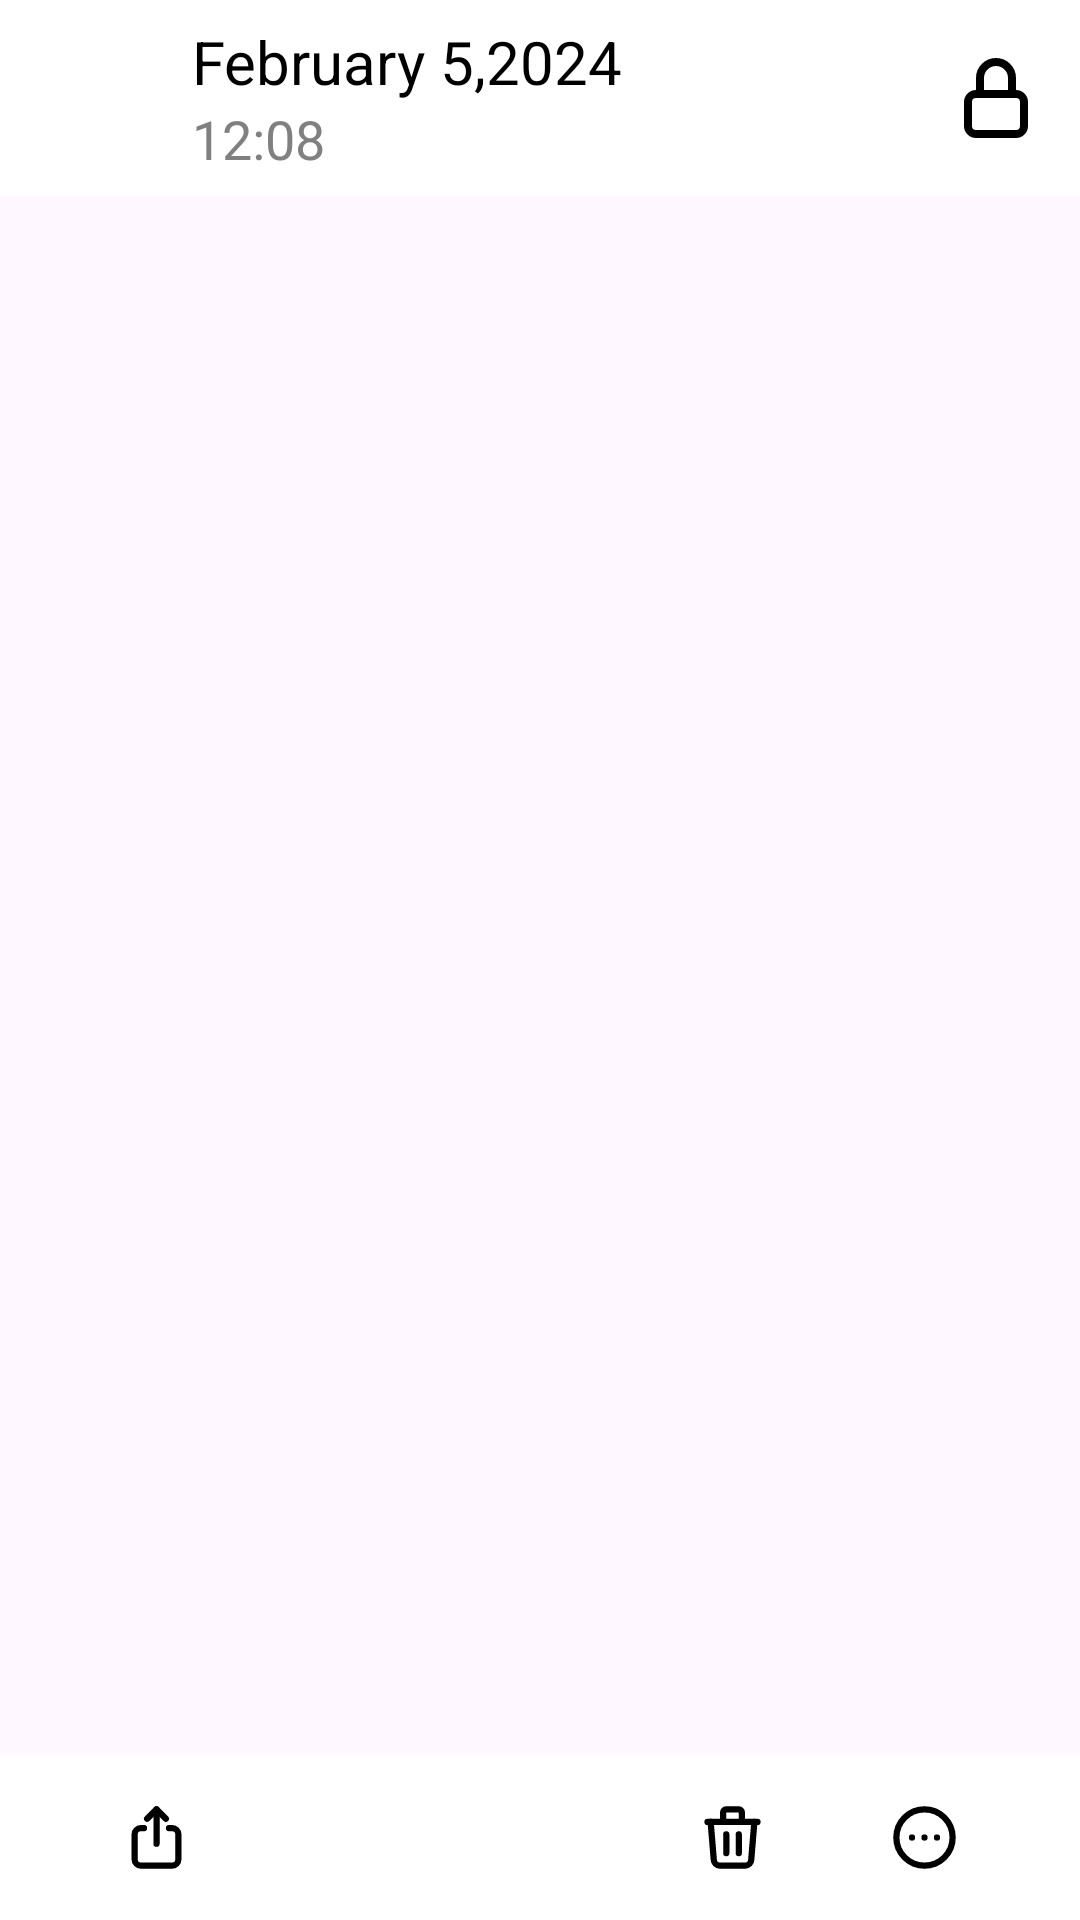

Where icons sit on this 1080 × 1920 app screen, as bbox(x1, y1, x2, y2):
Delete File: bbox(704, 1806, 761, 1869)
lock: bbox(964, 58, 1028, 138)
More Option: bbox(893, 1806, 956, 1869)
share: bbox(131, 1806, 182, 1869)
